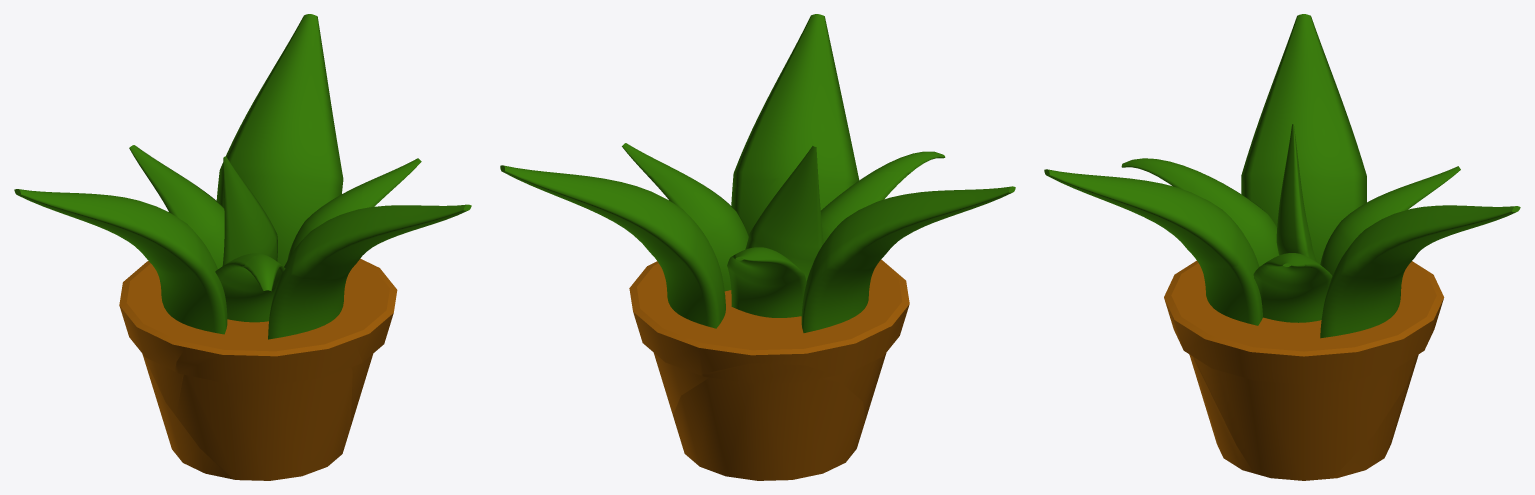
The model's file is plant 2.fbx.
The picture shows the model from 3 angles, left to right: view 1: azimuth 30°, elevation 25°; view 2: azimuth 150°, elevation 25°; view 3: azimuth 270°, elevation 25°; orthographic projection.
Parts seen in each view (by area): view 1: Cylinder.010, Cylinder.011, Cylinder, Cylinder.001; view 2: Cylinder.010, Cylinder.001, Cylinder, Cylinder.011; view 3: Cylinder.010, Cylinder, Cylinder.011, Cylinder.001.
Boxes of the visible parts, x1,y1,x2,y2 form: Cylinder.010: (14,14,397,426); Cylinder.011: (175,339,362,480); Cylinder: (244,158,471,292); Cylinder.001: (142,354,231,478); Cylinder.010: (500,145,1015,414); Cylinder.001: (673,363,865,480); Cylinder: (622,14,945,188); Cylinder.011: (863,259,908,420); Cylinder.010: (1170,14,1520,480); Cylinder: (1044,158,1304,272); Cylinder.011: (1164,260,1253,473); Cylinder.001: (1330,329,1434,478).
Size of the model in its own units: 352 by 261 by 359.
